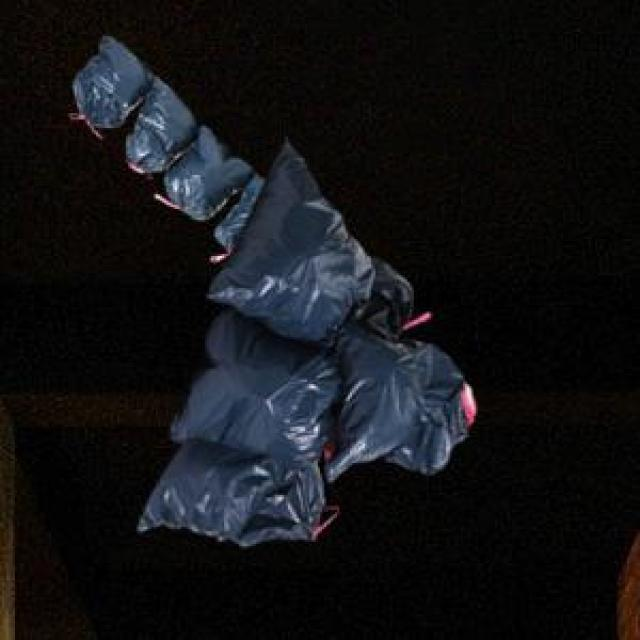Trashbag: (227, 180, 369, 337), (188, 320, 349, 452), (152, 439, 318, 542), (343, 334, 464, 464), (77, 42, 140, 124), (178, 143, 243, 212), (132, 90, 189, 161)
